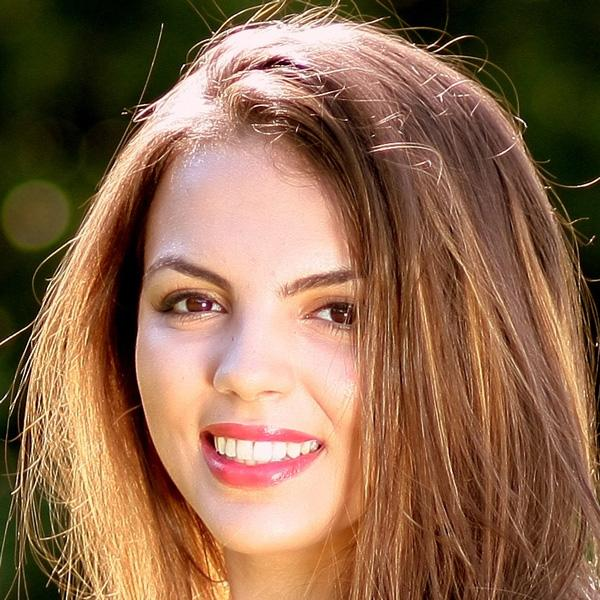Eyes: (291, 284, 386, 344), (148, 276, 234, 333)
